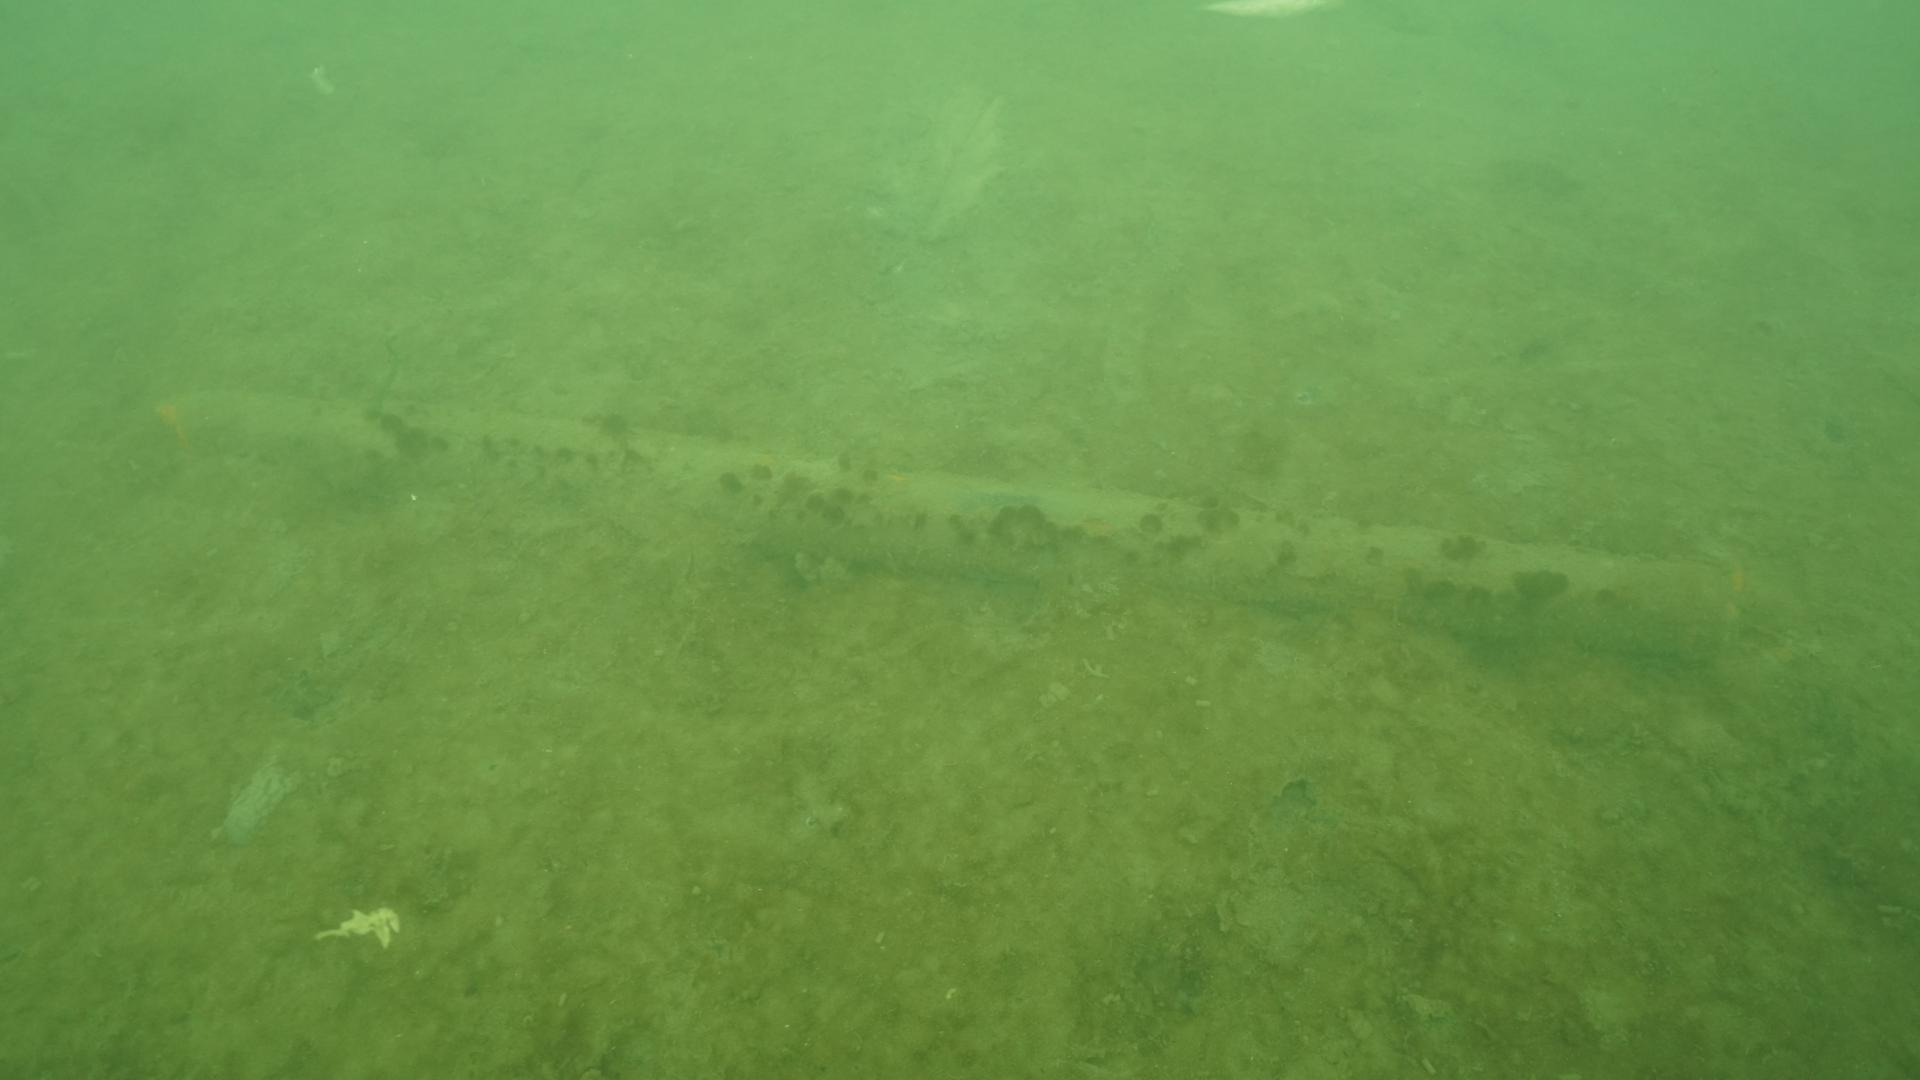wood: (146, 392, 1734, 667)
